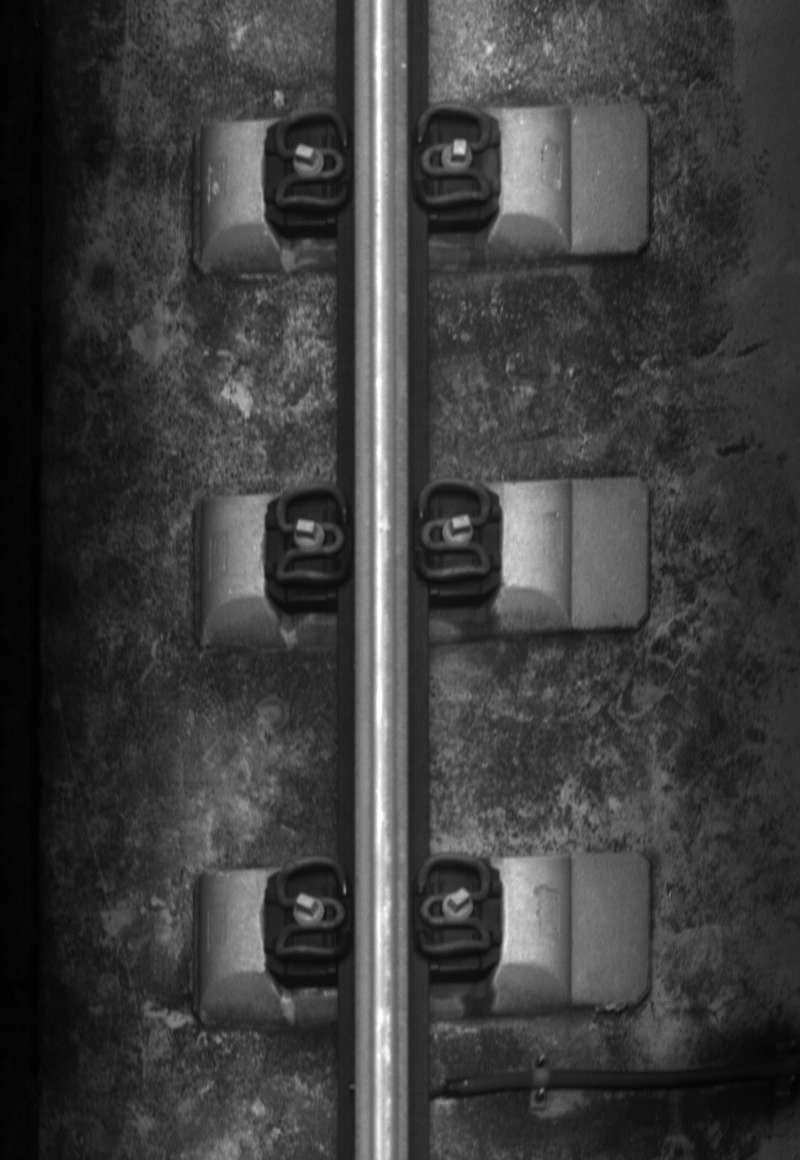l_faster: (269, 478, 353, 595), (271, 853, 352, 972), (271, 103, 352, 221)
r_faster: (409, 852, 498, 967), (411, 98, 496, 212), (413, 475, 495, 586)
